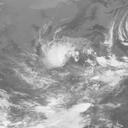cyclone: (43, 40, 73, 68)
